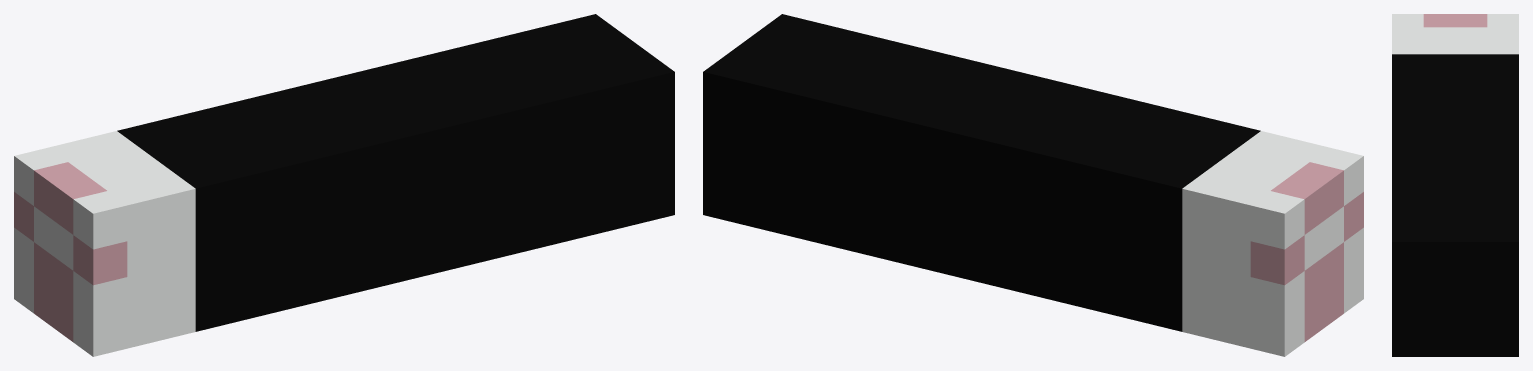
File: brazo_completo.obj
The picture shows the model from 3 angles, left to right: view 1: azimuth 30°, elevation 25°; view 2: azimuth 150°, elevation 25°; view 3: azimuth 270°, elevation 25°; orthographic projection. The views are drawn at different scales.
Parts seen in each view (by area): view 1: brazo_completo; view 2: brazo_completo; view 3: brazo_completo.
Part boxes in pixels (left/top/right/bottom): brazo_completo: left=14, top=14, right=674, bottom=356; brazo_completo: left=703, top=14, right=1363, bottom=356; brazo_completo: left=1392, top=14, right=1518, bottom=356.
Bounding box in the file's own units: 1.7 × 0.4 × 0.4.
1 material, 1 textured.
